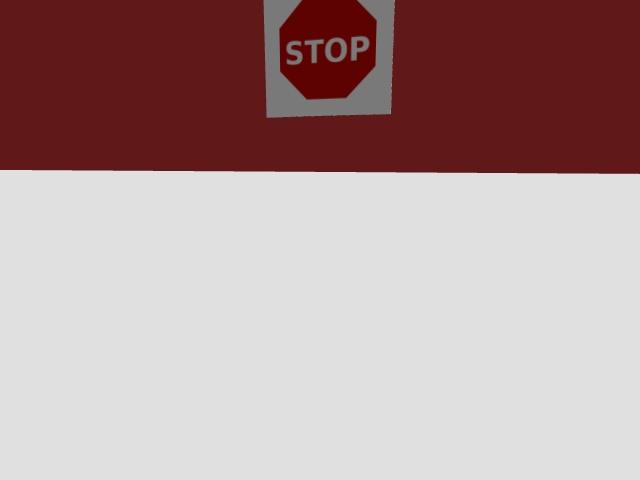stopsign: (264, 0, 394, 117)
